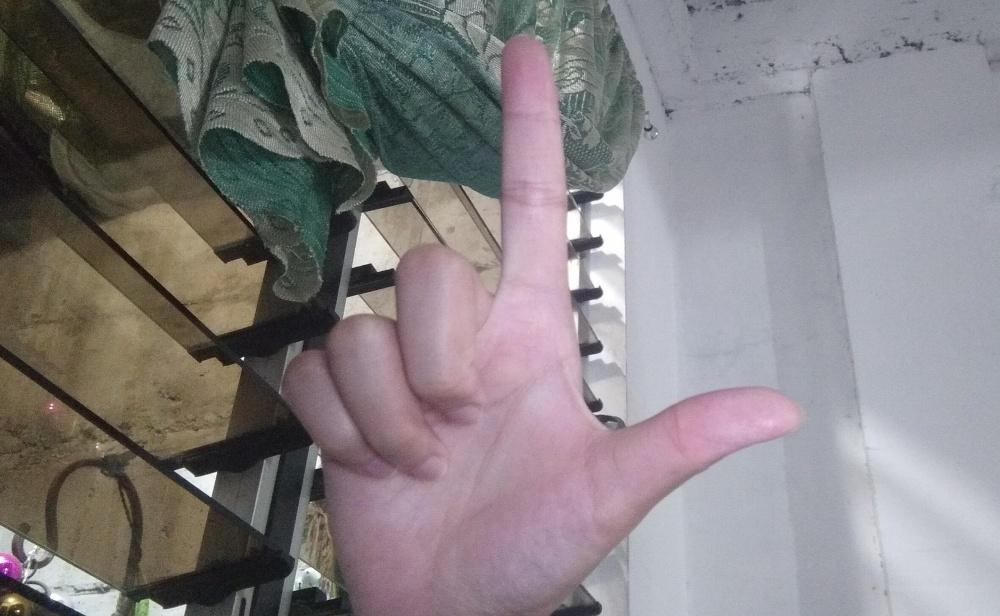l: (278, 32, 803, 615)
